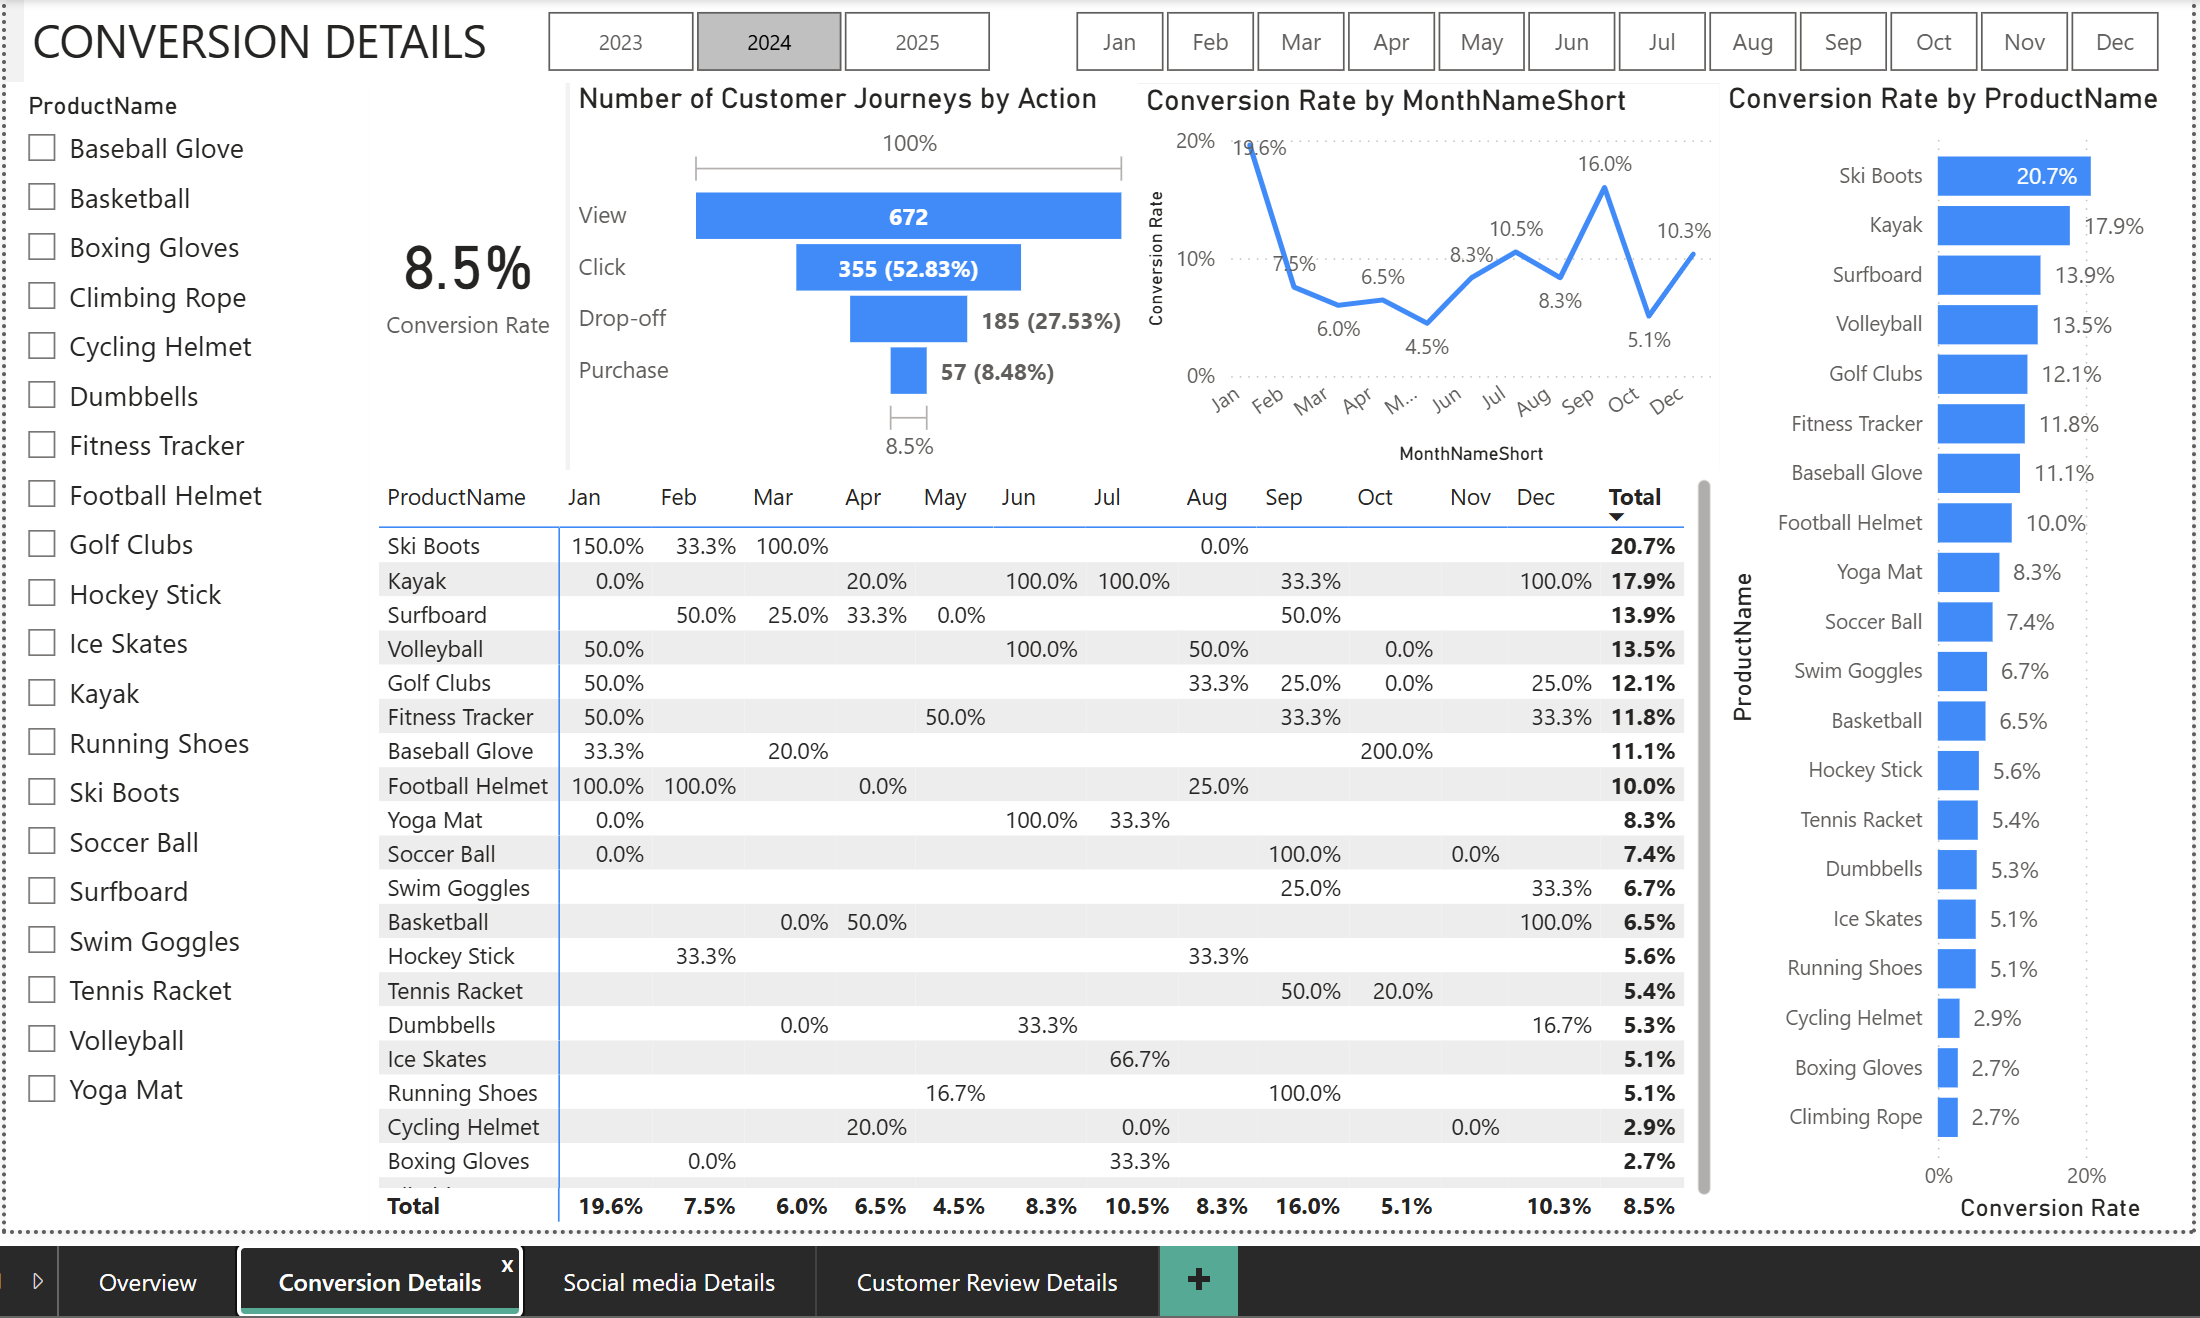

What the dashboard file says about the page in this screenshot:
{"tool":"powerbi","page":{"name":"Conversion Details","canvas":[1280,720],"ordinal":1},"visuals":[{"type":"textbox","box":[10.2,0,1269.8,48.4],"z":0},{"type":"slicer","fields":{"Values":["dim_products.ProductName"]},"box":[0,48.4,212.9,673.1],"z":1000},{"type":"card","fields":{"Values":["_Calculations.Conversion Rate"]},"box":[212.9,48.4,114.7,228.2],"z":2000},{"type":"slicer","fields":{"Values":["Calendar.Year"]},"box":[292,0,308.5,48.4],"z":3000},{"type":"slicer","fields":{"Values":["Calendar.MonthNameShort"]},"box":[600.5,0,683.3,48.4],"z":4000},{"type":"lineChart","fields":{"Y":["_Calculations.Conversion Rate"],"Category":["Calendar.MonthNameShort"]},"box":[662.9,49.7,340.4,226.9],"z":5000},{"type":"clusteredBarChart","fields":{"Category":["dim_products.ProductName"],"Y":["_Calculations.Conversion Rate"]},"box":[1003.3,48.4,276.7,671.9],"z":6000},{"type":"pivotTable","fields":{"Values":["_Calculations.Conversion Rate"],"Rows":["dim_products.ProductName"],"Columns":["Calendar.MonthNameShort"]},"box":[212.9,275.4,790.4,444.9],"z":7000},{"type":"funnel","fields":{"Y":["_Calculations.Number of Customer Journeys"],"Category":["fact_customer_journey.Action"]},"box":[330.2,48.4,332.7,228.2],"z":8000}]}

Visuals, with their boxes on the page's 1280x720 design canvas (x1, y1, x2, y2). These are canvas units, not pixel positions in the 2200x1318 screenshot, which may show the page scaled, cropped or inside an application window:
textbox: rect(10, 0, 1280, 48)
slicer - dim_products.ProductName: rect(0, 48, 213, 722)
card - _Calculations.Conversion Rate: rect(213, 48, 328, 277)
slicer - Calendar.Year: rect(292, 0, 600, 48)
slicer - Calendar.MonthNameShort: rect(600, 0, 1284, 48)
lineChart - _Calculations.Conversion Rate x Calendar.MonthNameShort: rect(663, 50, 1003, 277)
clusteredBarChart - dim_products.ProductName x _Calculations.Conversion Rate: rect(1003, 48, 1280, 720)
pivotTable - _Calculations.Conversion Rate x dim_products.ProductName: rect(213, 275, 1003, 720)
funnel - _Calculations.Number of Customer Journeys x fact_customer_journey.Action: rect(330, 48, 663, 277)
